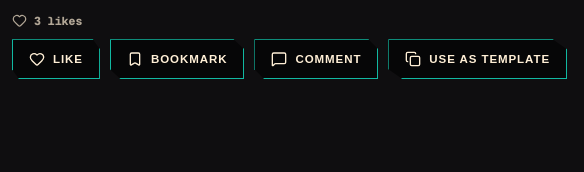
PublicHeroActions › rolls back the bookmark and shows a rate-limit message on 429
Click the button with aria-label "Bookmark Arc Light" at (177, 59), box [110,39,244,79]
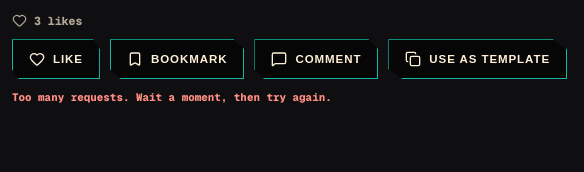
Result: the message reads "Too many requests. Wait a moment, then try again." at [12,90,332,104]
